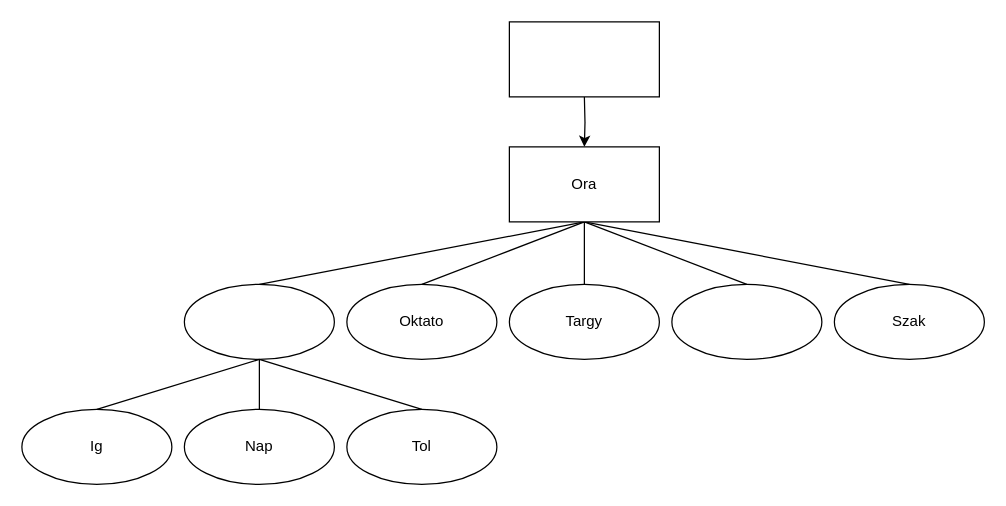
This 1006x506 diagram has some shape labels left out. The centre of each missing label's shape, as x and y in pixels:
"( Cim )" goes at (x=258, y=321).
"Helyszin" goes at (x=746, y=321).
"TJQ86A_orarend" goes at (x=583, y=59).
